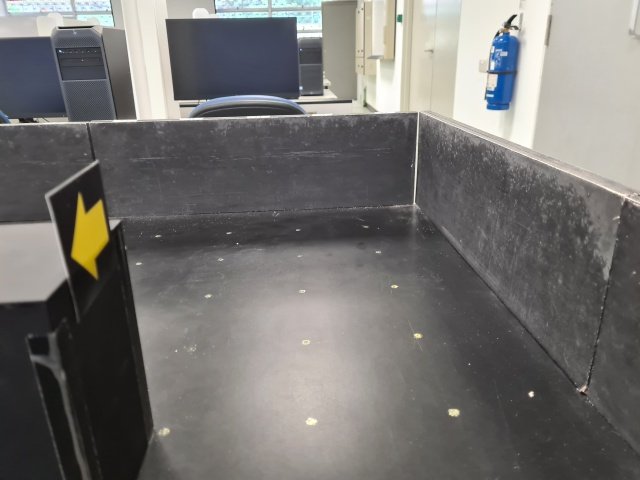right_arrow: (45, 158, 120, 321)
